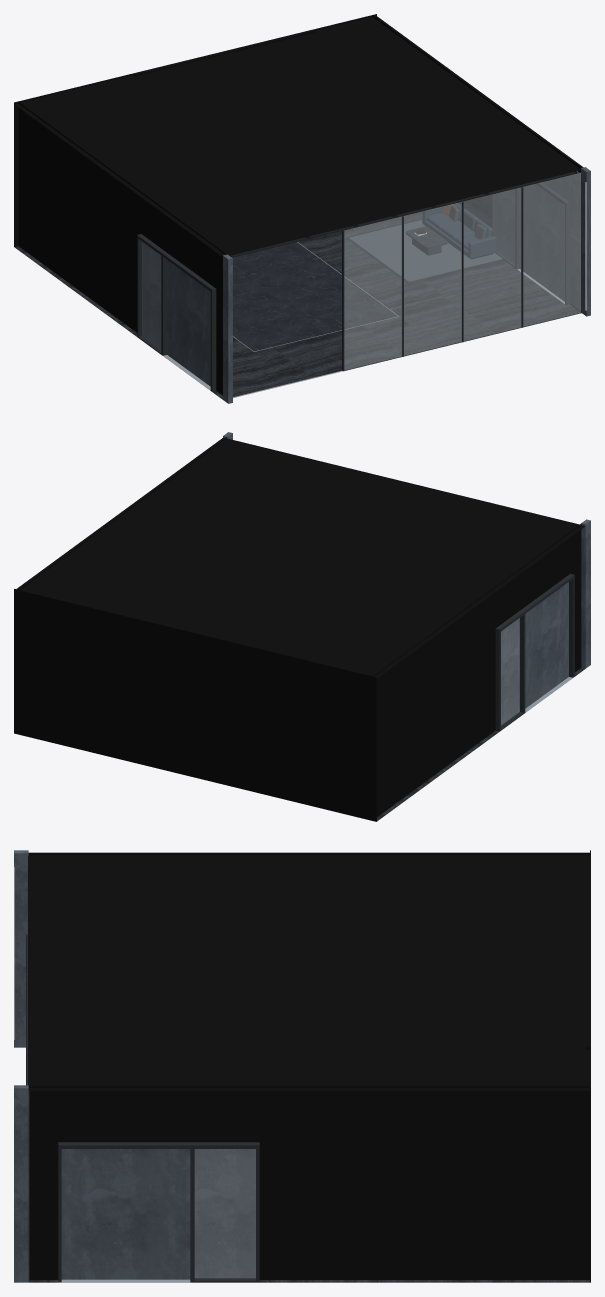
File: room_sedan.glb
3 renders of one model, top to bottom at view 1: azimuth 30°, elevation 25°; view 2: azimuth 150°, elevation 25°; view 3: azimuth 270°, elevation 25°, orthographic. The views are drawn at different scales.
Visible parts, largest first — view 1: MTG_Reveals, MTG_Glass_Vitrine, MTG_Floor, MTG_PortalFill_L, MTG_PortalFill_R, MTG_Rug, MTG_Walls, MTG_Sofa, MTG_Glass_PortalL, MTG_Pier_-1, MTG_Pier_1, MTG_Ceiling (+5 smaller); view 2: MTG_Reveals, MTG_PortalFill_L, MTG_Glass_PortalL, MTG_Pier_-1, MTG_PortalL_Mull, MTG_Floor, MTG_PortalL_JambA, MTG_PortalL_Head, MTG_PortalL_JambB; view 3: MTG_Reveals, MTG_PortalFill_R, MTG_Glass_PortalR, MTG_Pier_1, MTG_Pier_-1, MTG_PortalR_Head, MTG_Floor, MTG_PortalR_Mull.
Boxes of the visible parts, <box> form: MTG_Reveals: <box>14,14,583,395</box>; MTG_Glass_Vitrine: <box>344,173,580,369</box>; MTG_Floor: <box>14,211,579,399</box>; MTG_PortalFill_L: <box>142,242,210,386</box>; MTG_PortalFill_R: <box>495,184,564,301</box>; MTG_Rug: <box>349,220,502,281</box>; MTG_Walls: <box>458,171,580,310</box>; MTG_Sofa: <box>422,203,496,259</box>; MTG_Glass_PortalL: <box>142,242,160,348</box>; MTG_Pier_-1: <box>223,254,232,403</box>; MTG_Pier_1: <box>581,167,590,316</box>; MTG_Ceiling: <box>230,171,576,257</box>; MTG_Reveals: <box>14,437,584,821</box>; MTG_PortalFill_L: <box>501,582,568,725</box>; MTG_Glass_PortalL: <box>501,618,519,724</box>; MTG_Pier_-1: <box>581,519,590,668</box>; MTG_PortalL_Mull: <box>519,614,525,713</box>; MTG_Floor: <box>377,668,584,821</box>; MTG_PortalL_JambA: <box>495,631,500,731</box>; MTG_PortalL_Head: <box>495,574,574,632</box>; MTG_PortalL_JambB: <box>569,578,574,677</box>; MTG_Reveals: <box>28,850,590,1282</box>; MTG_PortalFill_R: <box>61,1149,255,1279</box>; MTG_Glass_PortalR: <box>195,1149,255,1277</box>; MTG_Pier_1: <box>14,1085,28,1282</box>; MTG_Pier_-1: <box>14,850,28,1047</box>; MTG_PortalR_Head: <box>58,1142,259,1148</box>; MTG_Floor: <box>28,1280,589,1282</box>; MTG_PortalR_Mull: <box>190,1149,194,1282</box>.
Size of the model in its own units: 13 by 4.95 by 13.32.
Materials: 25 (6 with a texture image).
